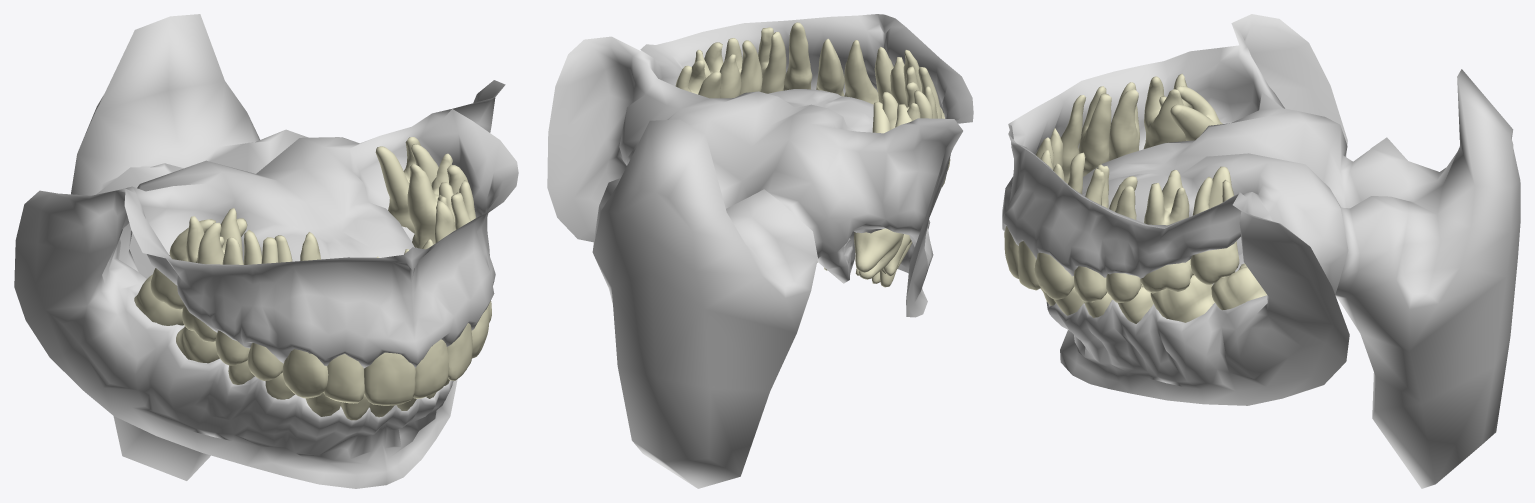
File: mouth_close.fbx
The picture shows the model from 3 angles, left to right: view 1: azimuth 30°, elevation 25°; view 2: azimuth 150°, elevation 25°; view 3: azimuth 270°, elevation 25°; orthographic projection. The views are drawn at different scales.
Parts seen in each view (by area): view 1: mouth, tooth.006, tooth.007, tooth.019, tooth.002, tooth.027, tooth.016, tooth.003, tooth.014, tooth.015, tooth.026, tooth.018 (+6 smaller); view 2: mouth, tooth, tooth.010, tooth.018, tooth.006, tooth.026, tooth.017, tooth.019, tooth.004, tooth.007, tooth.002, tooth.015 (+2 smaller); view 3: mouth, tooth.006, tooth.019, tooth.007, tooth.003, tooth.009, tooth.018, tooth.016, tooth.010, tooth.017, tooth.015, tooth.025 (+4 smaller).
Part boxes in pixels (left/top/right/bottom): mouth: left=14, top=14, right=518, bottom=488; tooth.006: left=407, top=153, right=467, bottom=248; tooth.007: left=182, top=208, right=242, bottom=341; tooth.019: left=375, top=137, right=438, bottom=233; tooth.002: left=364, top=256, right=415, bottom=405; tooth.027: left=282, top=232, right=328, bottom=398; tooth.016: left=215, top=230, right=261, bottom=365; tooth.003: left=247, top=235, right=292, bottom=380; tooth.014: left=323, top=354, right=364, bottom=403; tooth.015: left=150, top=218, right=247, bottom=309; tooth.026: left=404, top=249, right=449, bottom=398; tooth.018: left=434, top=200, right=489, bottom=358; mouth: left=547, top=14, right=973, bottom=488; tooth: left=854, top=228, right=903, bottom=279; tooth.010: left=758, top=27, right=786, bottom=93; tooth.018: left=783, top=22, right=812, bottom=90; tooth.006: left=694, top=42, right=741, bottom=98; tooth.026: left=844, top=40, right=878, bottom=104; tooth.017: left=724, top=38, right=762, bottom=94; tooth.019: left=675, top=59, right=721, bottom=98; tooth.004: left=816, top=38, right=844, bottom=96; tooth.007: left=882, top=90, right=932, bottom=129; tooth.002: left=874, top=47, right=893, bottom=103; tooth.015: left=872, top=101, right=911, bottom=133; mouth: left=1002, top=14, right=1520, bottom=488; tooth.006: left=1140, top=170, right=1193, bottom=293; tooth.019: left=1190, top=166, right=1239, bottom=284; tooth.007: left=1143, top=73, right=1188, bottom=148; tooth.003: left=1078, top=86, right=1111, bottom=176; tooth.009: left=1150, top=275, right=1214, bottom=322; tooth.018: left=1034, top=152, right=1085, bottom=299; tooth.016: left=1108, top=82, right=1139, bottom=160; tooth.010: left=1074, top=164, right=1109, bottom=302; tooth.017: left=1106, top=176, right=1141, bottom=302; tooth.015: left=1159, top=86, right=1222, bottom=140; tooth.025: left=1211, top=263, right=1266, bottom=310.
Bounding box in the file's own units: 10.47 × 9.89 × 11.25.
